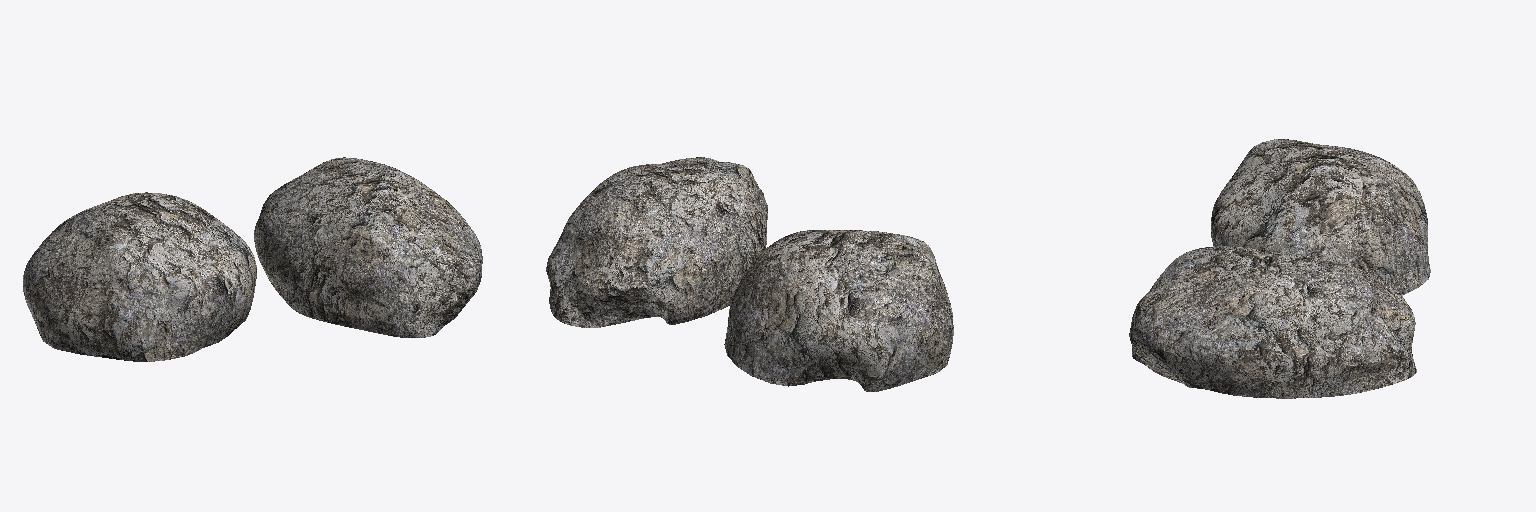
3 renders of one model, left to right at view 1: azimuth 30°, elevation 25°; view 2: azimuth 150°, elevation 25°; view 3: azimuth 270°, elevation 25°, orthographic.
Visible parts, largest first — view 1: Boulder_02_Untitled.001, Boulder_01_Untitled; view 2: Boulder_02_Untitled.001, Boulder_01_Untitled; view 3: Boulder_01_Untitled, Boulder_02_Untitled.001.
Boxes of the visible parts, <box> form: Boulder_02_Untitled.001: <box>23,192,256,361</box>; Boulder_01_Untitled: <box>254,157,482,337</box>; Boulder_02_Untitled.001: <box>724,230,953,391</box>; Boulder_01_Untitled: <box>546,157,767,327</box>; Boulder_01_Untitled: <box>1129,246,1416,398</box>; Boulder_02_Untitled.001: <box>1211,139,1430,295</box>.
Bounding box in the file's own units: 766 × 206 × 514.
Materials: 2 (1 with a texture image).